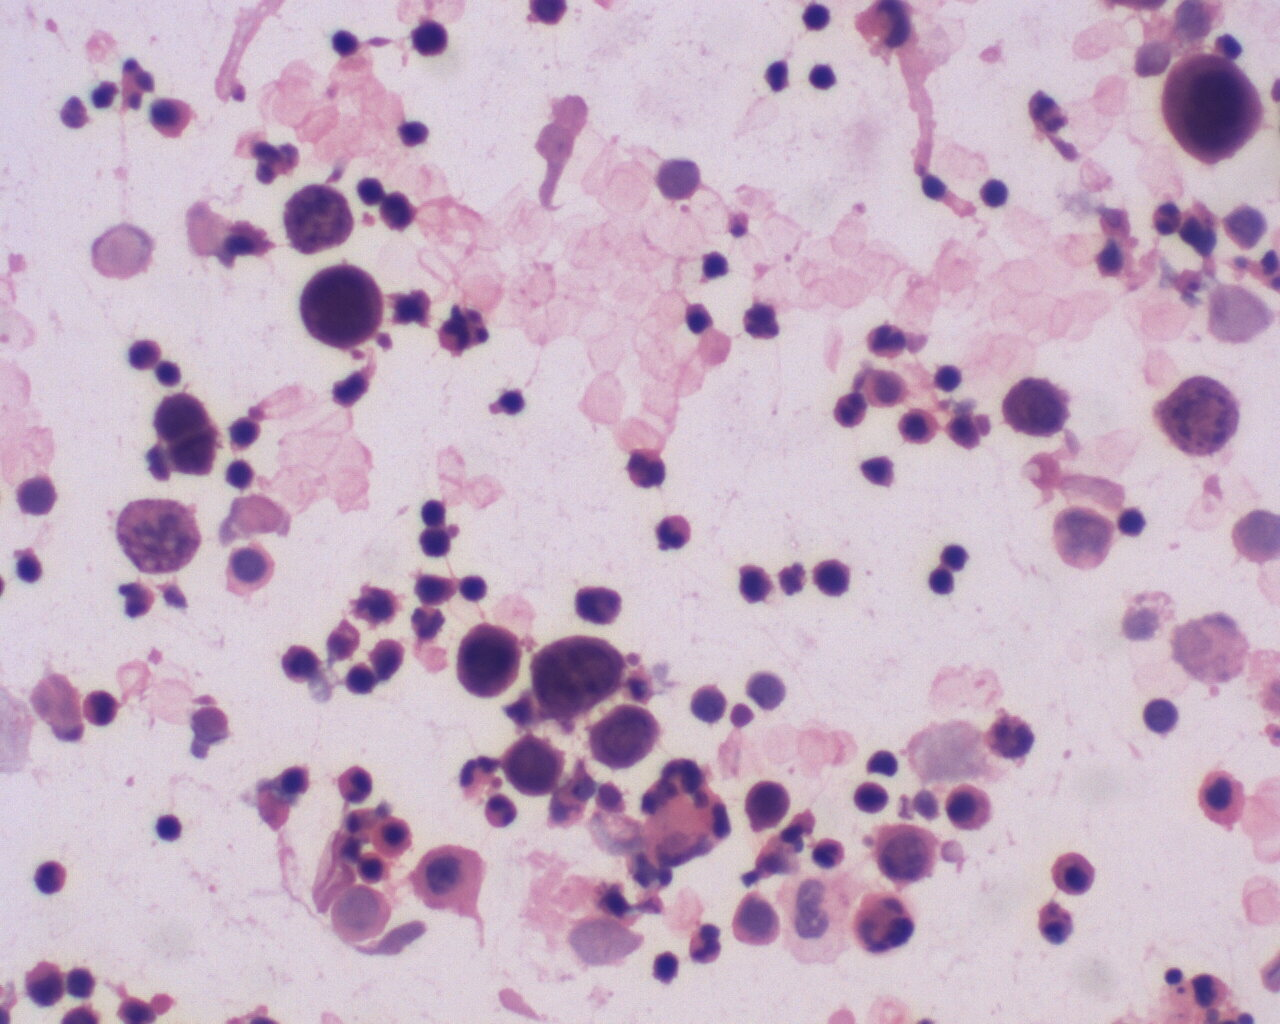ab: (1160, 54, 1270, 169), (296, 258, 391, 357), (534, 632, 629, 720), (148, 391, 219, 479), (451, 618, 530, 694), (1002, 370, 1074, 443), (587, 705, 659, 770), (501, 734, 568, 801)
lymph: (152, 809, 197, 847), (977, 172, 1017, 214), (1114, 498, 1154, 540), (923, 565, 963, 602), (350, 171, 389, 207), (326, 27, 365, 61), (796, 1, 829, 36)
meso: (411, 838, 498, 921), (1198, 765, 1255, 832), (942, 776, 996, 832), (1048, 848, 1098, 898), (370, 816, 419, 859)
neutro: (828, 389, 872, 430), (866, 320, 910, 362), (652, 512, 695, 552), (685, 924, 725, 965), (809, 837, 846, 871)
